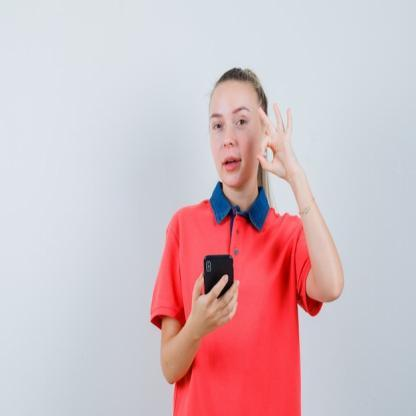ok: (256, 100, 296, 176)
